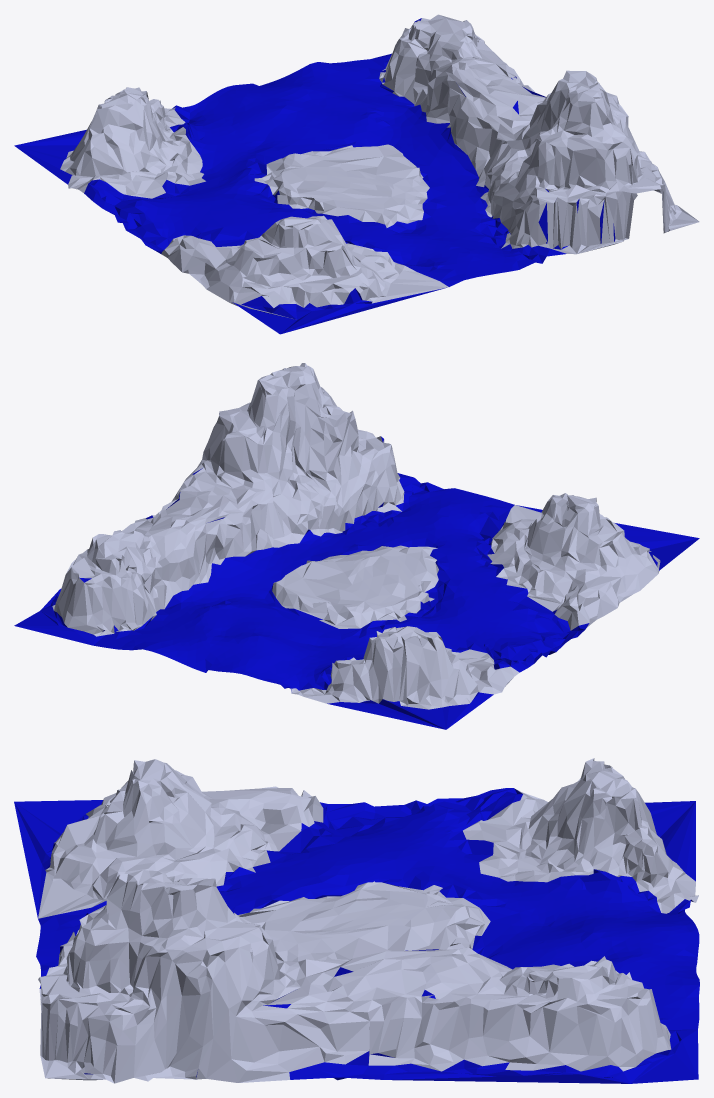
Rendered from glace.fbx.
3 renders of one model, top to bottom at view 1: azimuth 30°, elevation 25°; view 2: azimuth 150°, elevation 25°; view 3: azimuth 270°, elevation 25°, orthographic. The views are drawn at different scales.
Visible parts, largest first — view 1: Grid; view 2: Grid; view 3: Grid.
Boxes of the visible parts, box(x1,y1,x2,y2) form: Grid: box(14, 14, 699, 334); Grid: box(14, 363, 699, 729); Grid: box(14, 758, 699, 1083).
Bounding box in the file's own units: 72257 × 21436 × 74588.
